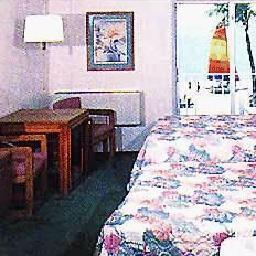Cama: (95, 161, 254, 255), (138, 114, 254, 161)
Ventana: (170, 3, 255, 113)
